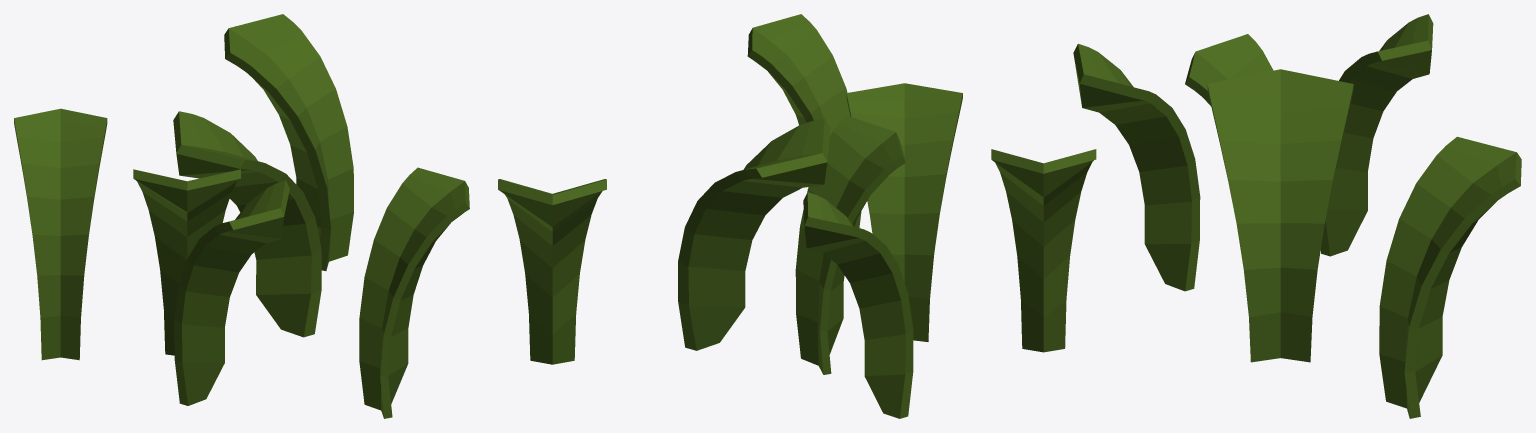
File: Herb.glb
3 renders of one model, left to right at view 1: azimuth 30°, elevation 25°; view 2: azimuth 150°, elevation 25°; view 3: azimuth 270°, elevation 25°, orthographic. The views are drawn at different scales.
Visible parts, largest first — view 1: Herb1; view 2: Herb1; view 3: Herb1.
Boxes of the visible parts, bbox=[...] form: Herb1: bbox=[14, 14, 469, 418]; Herb1: bbox=[498, 14, 962, 418]; Herb1: bbox=[991, 14, 1521, 418].
Size of the model in its own units: 0.6586 by 0.3821 by 0.7942.
